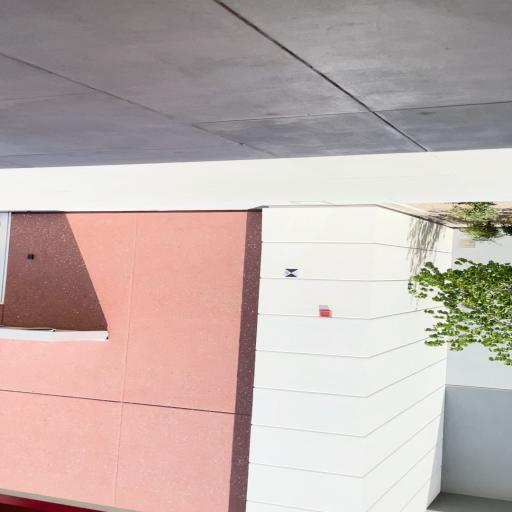target6: (284, 269, 299, 277)
